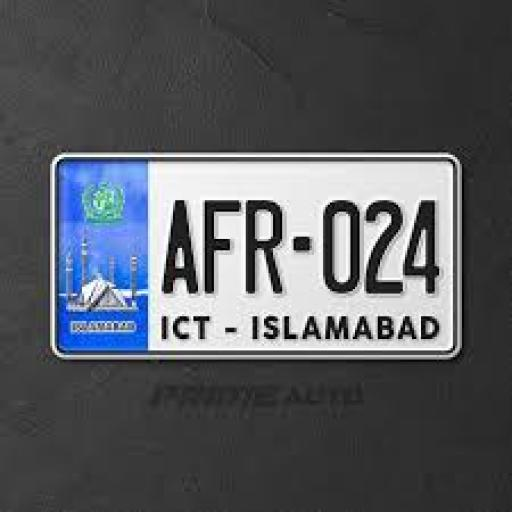0: (314, 200, 362, 306)
2: (366, 200, 409, 303)
4: (404, 202, 439, 300)
A: (158, 193, 196, 301)
F: (199, 196, 238, 288)
R: (242, 198, 286, 306)
